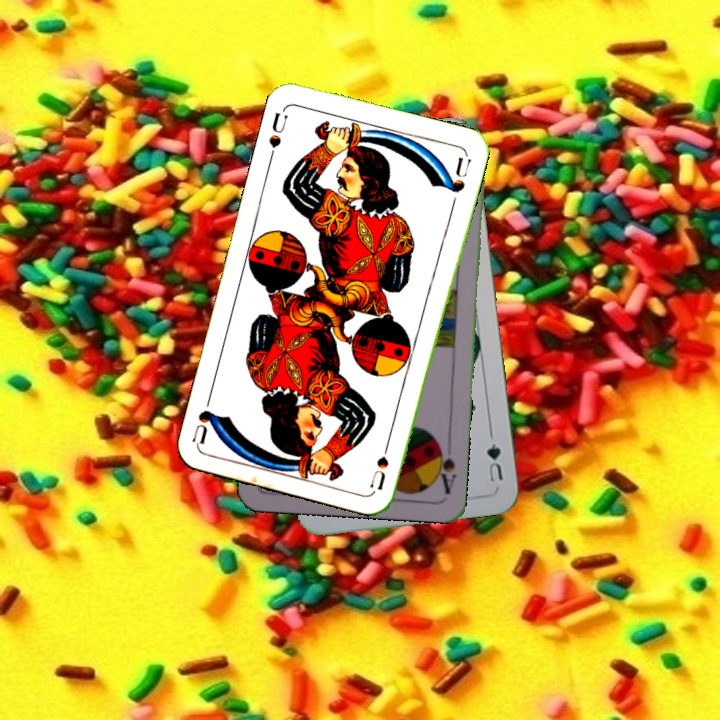GU: (482, 438, 506, 485)
SA: (431, 438, 459, 497)
SU: (366, 432, 394, 492), (264, 108, 291, 151)
